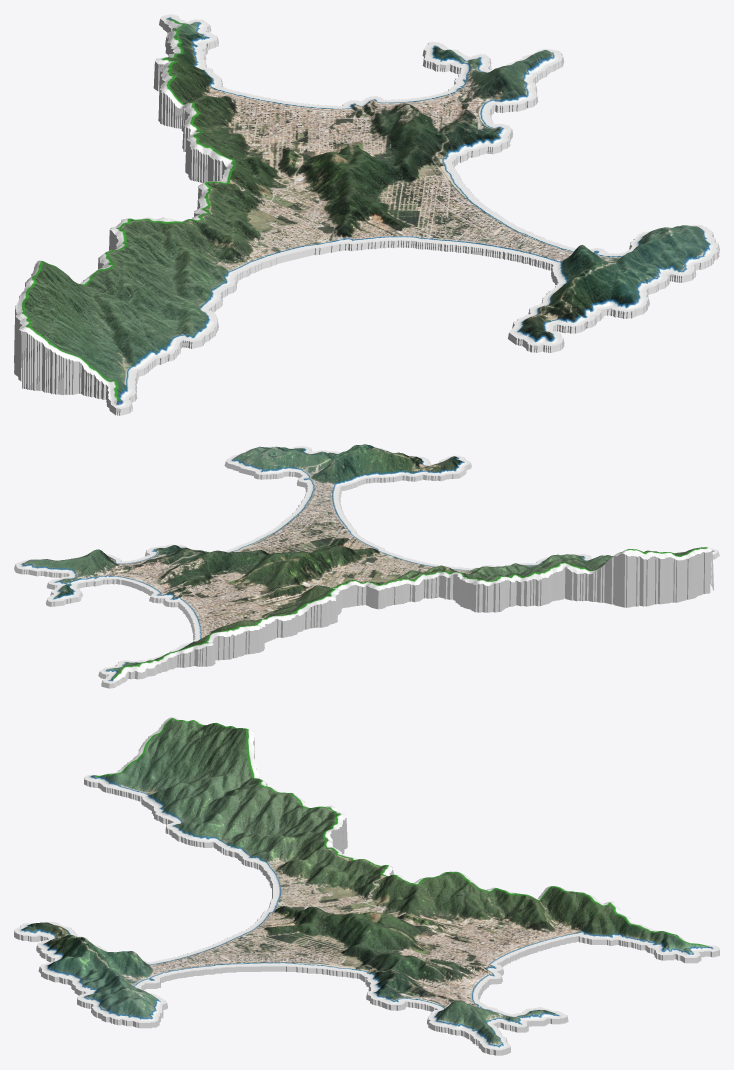
The model's file is bombinhas.glb.
3 renders of one model, top to bottom at view 1: azimuth 30°, elevation 25°; view 2: azimuth 150°, elevation 25°; view 3: azimuth 270°, elevation 25°, orthographic. The views are drawn at different scales.
Bounding box in the file's own units: 1 × 0.0963 × 1.02.
Materials: 1 (1 with a texture image).
